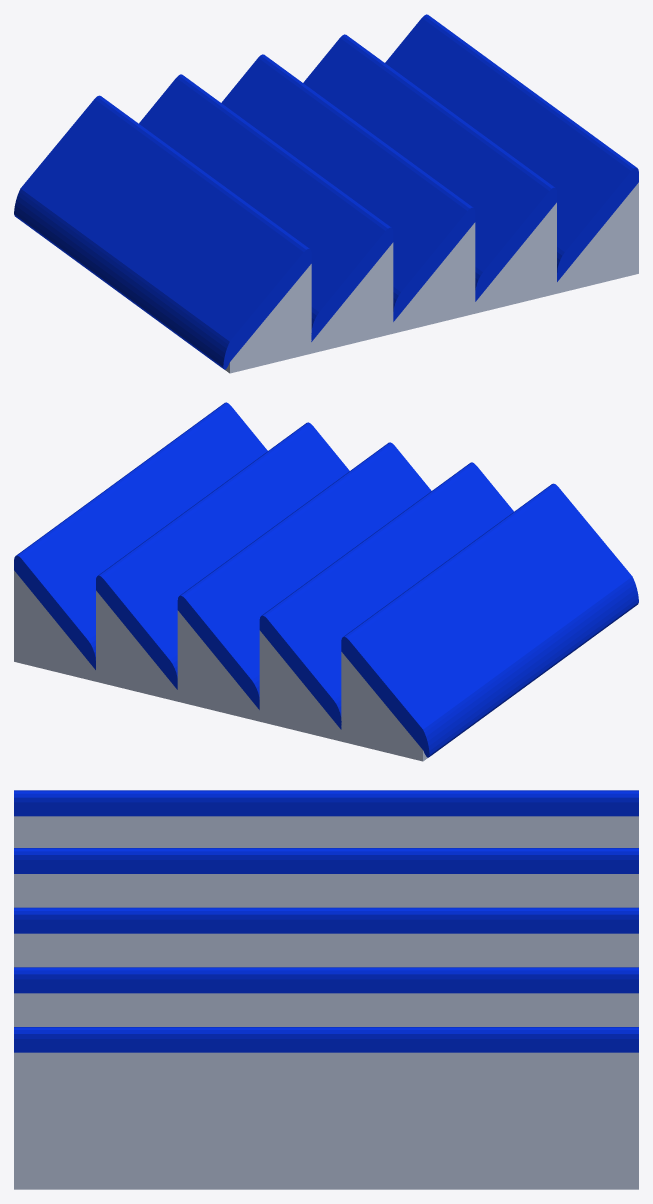
The model's file is pointyRoof.fbx.
3 renders of one model, top to bottom at view 1: azimuth 30°, elevation 25°; view 2: azimuth 150°, elevation 25°; view 3: azimuth 270°, elevation 25°, orthographic. The views are drawn at different scales.
Parts seen in each view (by area): view 1: PointyRoofSide; view 2: PointyRoofSide; view 3: PointyRoofSide.
Boxes of the visible parts, x1=… form: PointyRoofSide: x1=14, y1=14, x2=638, y2=373; PointyRoofSide: x1=14, y1=402, x2=638, y2=761; PointyRoofSide: x1=14, y1=790, x2=638, y2=1189.
Size of the model in its own units: 1007 by 248 by 879.
